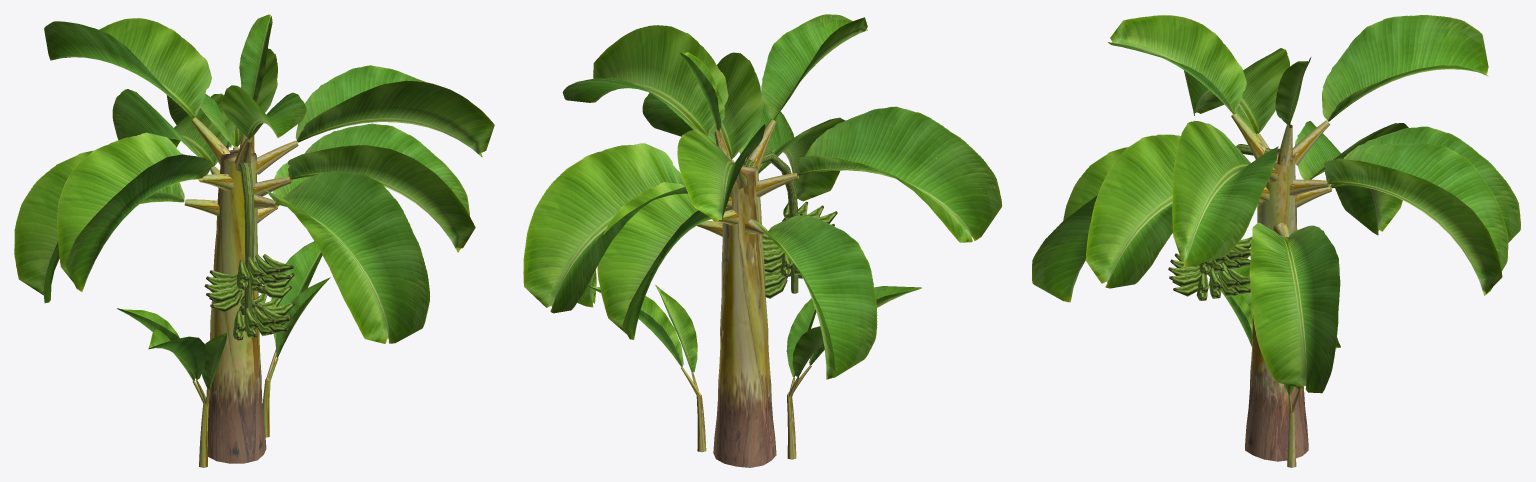
Rendered from BananaTree.fbx.
3 renders of one model, left to right at view 1: azimuth 30°, elevation 25°; view 2: azimuth 150°, elevation 25°; view 3: azimuth 270°, elevation 25°, orthographic. The views are drawn at different scales.
Visible parts, largest first — view 1: BananaTree_LOD0; view 2: BananaTree_LOD0; view 3: BananaTree_LOD0.
Boxes of the visible parts, x1=… form: BananaTree_LOD0: x1=14, y1=14, x2=494, y2=467; BananaTree_LOD0: x1=523, y1=14, x2=1002, y2=467; BananaTree_LOD0: x1=1032, y1=15, x2=1520, y2=467.
Size of what is drawn, in the model's own units: 3.25 by 2.99 by 3.21.
